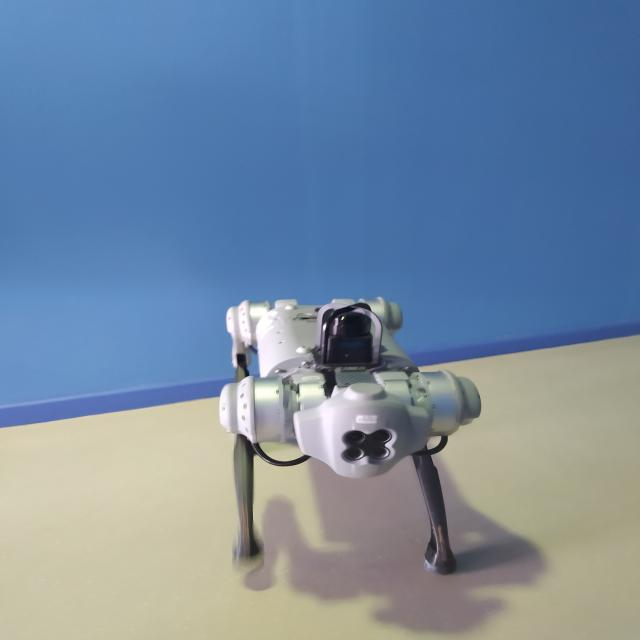unitree-go1-robot: (203, 281, 514, 588)
